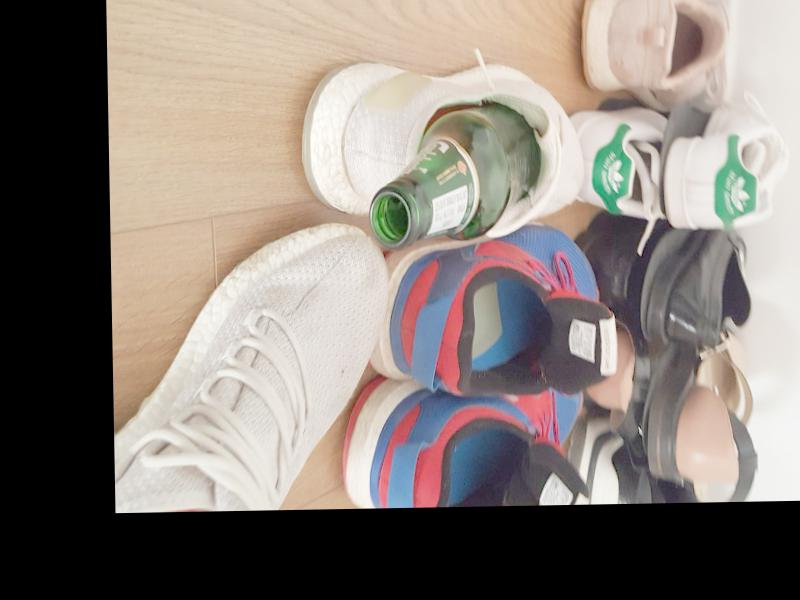Beer: (368, 104, 539, 247)
